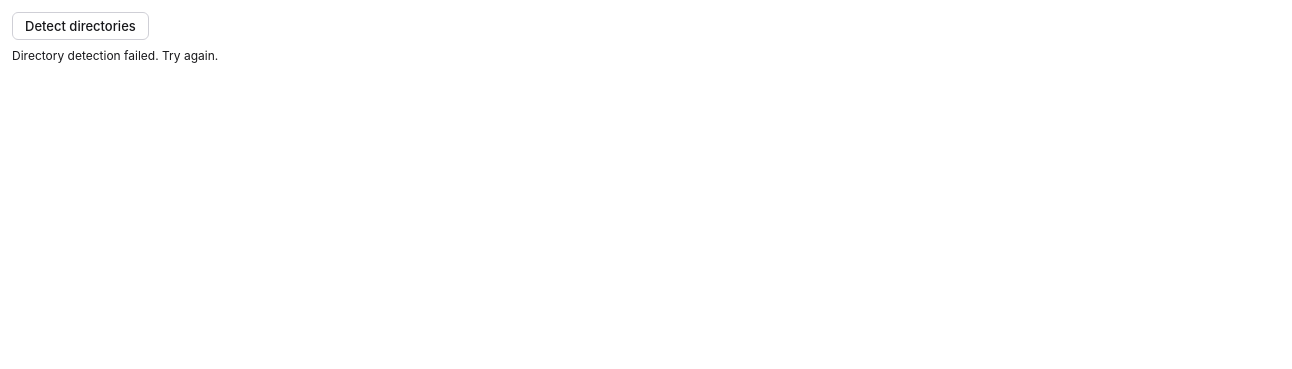
Test: ConfigDirectoryDetection › can retry detection after a read failure
Expected: the message "Directory detection failed. Try again." is shown, [12,48,218,63]
Click the button "Detect directories": point(80, 26) [12,12,149,40]
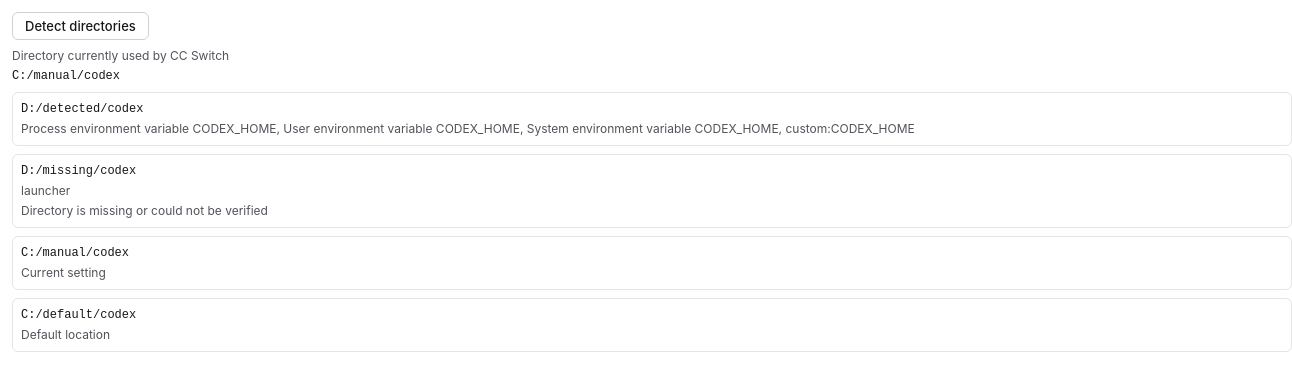
Expected: the text "Process environment variable CODEX_HOME" is shown, [21,121,915,136]
Expected: the message "Directory detection failed. Try again." is gone
